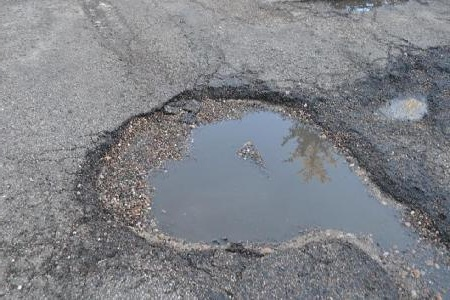pothole: (71, 79, 399, 259), (362, 56, 449, 126), (325, 0, 390, 14)
